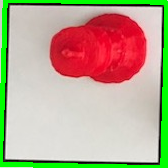Red King: (48, 10, 148, 86)
